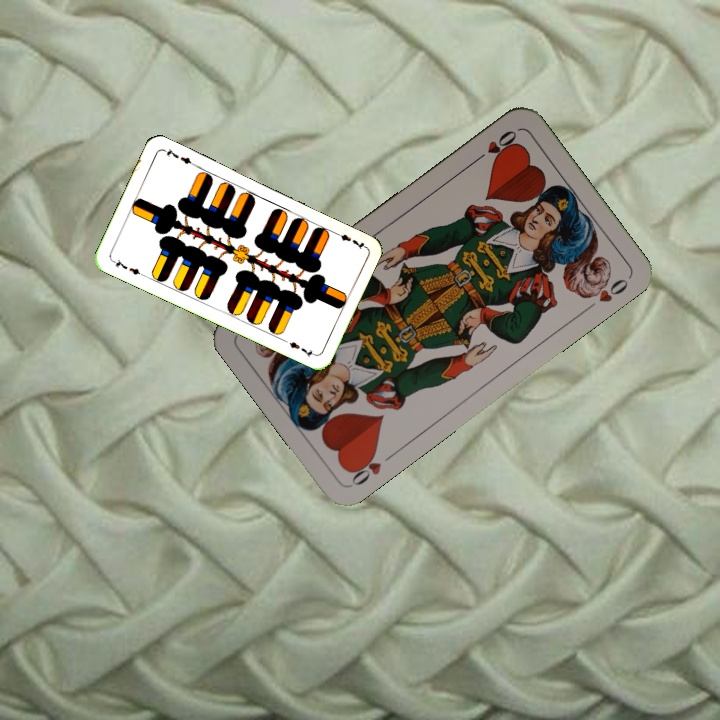E7: (329, 227, 367, 252), (108, 255, 146, 278)
HO: (344, 447, 398, 489), (469, 126, 520, 166)
